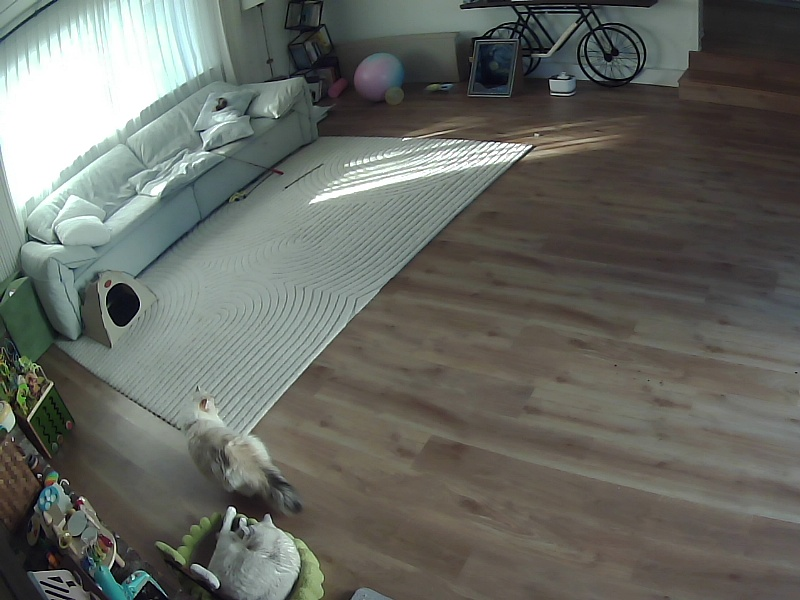Qb-2: (190, 506, 300, 599)
Qbo-2: (182, 386, 301, 513)
